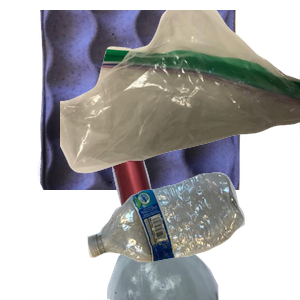glass: (83, 120, 294, 300)
paper: (35, 10, 268, 190)
plastic: (85, 170, 300, 300)
trash: (60, 10, 300, 176)
